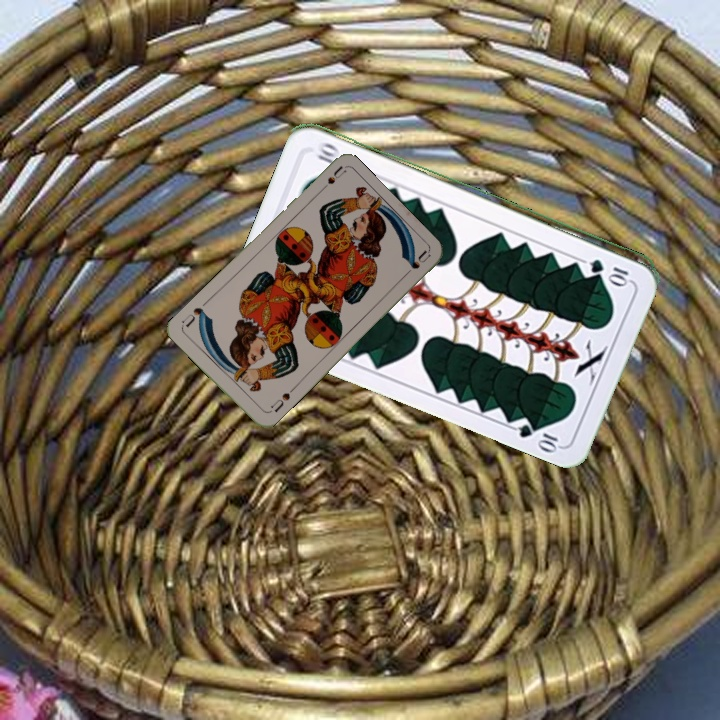G10: (585, 255, 633, 285)
SU: (314, 162, 348, 197), (264, 384, 297, 416)
